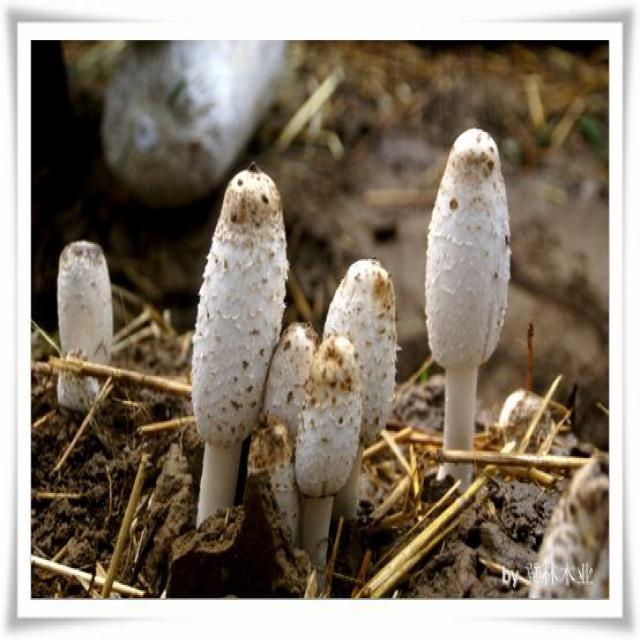Coprinus comatus: (187, 165, 287, 543), (427, 130, 509, 484), (321, 258, 396, 501), (296, 336, 362, 556), (266, 323, 316, 517), (56, 241, 113, 403)
